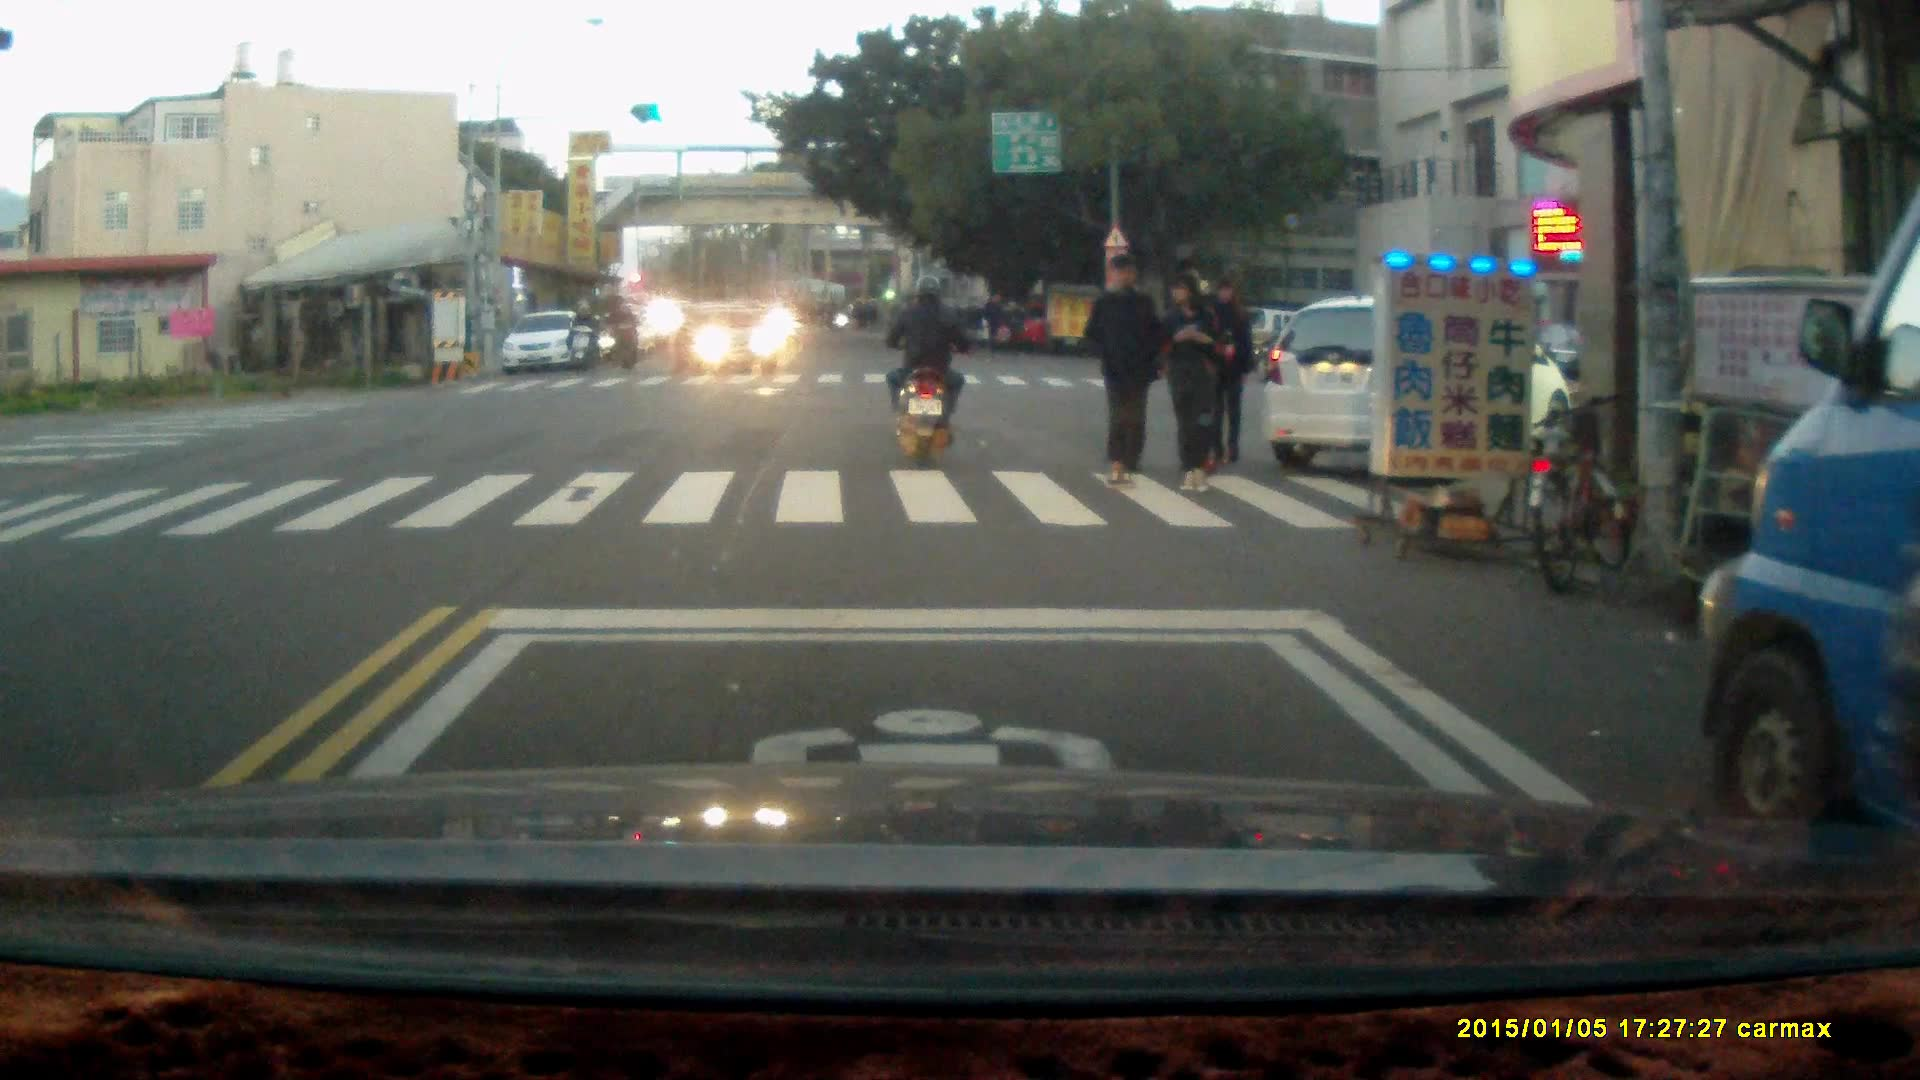pedestrian: (1081, 249, 1163, 489), (1158, 269, 1227, 495), (1207, 281, 1255, 462), (980, 287, 1005, 361), (1001, 296, 1026, 365)
rider: (886, 270, 962, 470), (566, 296, 597, 372), (610, 297, 641, 370)
vehicle: (1687, 174, 1920, 852), (1266, 303, 1575, 472), (669, 298, 785, 376), (508, 309, 601, 373)
